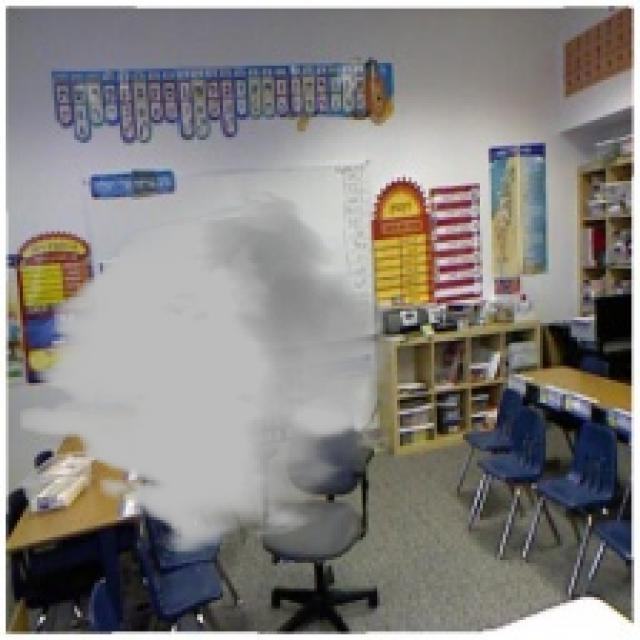smoke: (20, 189, 394, 554)
